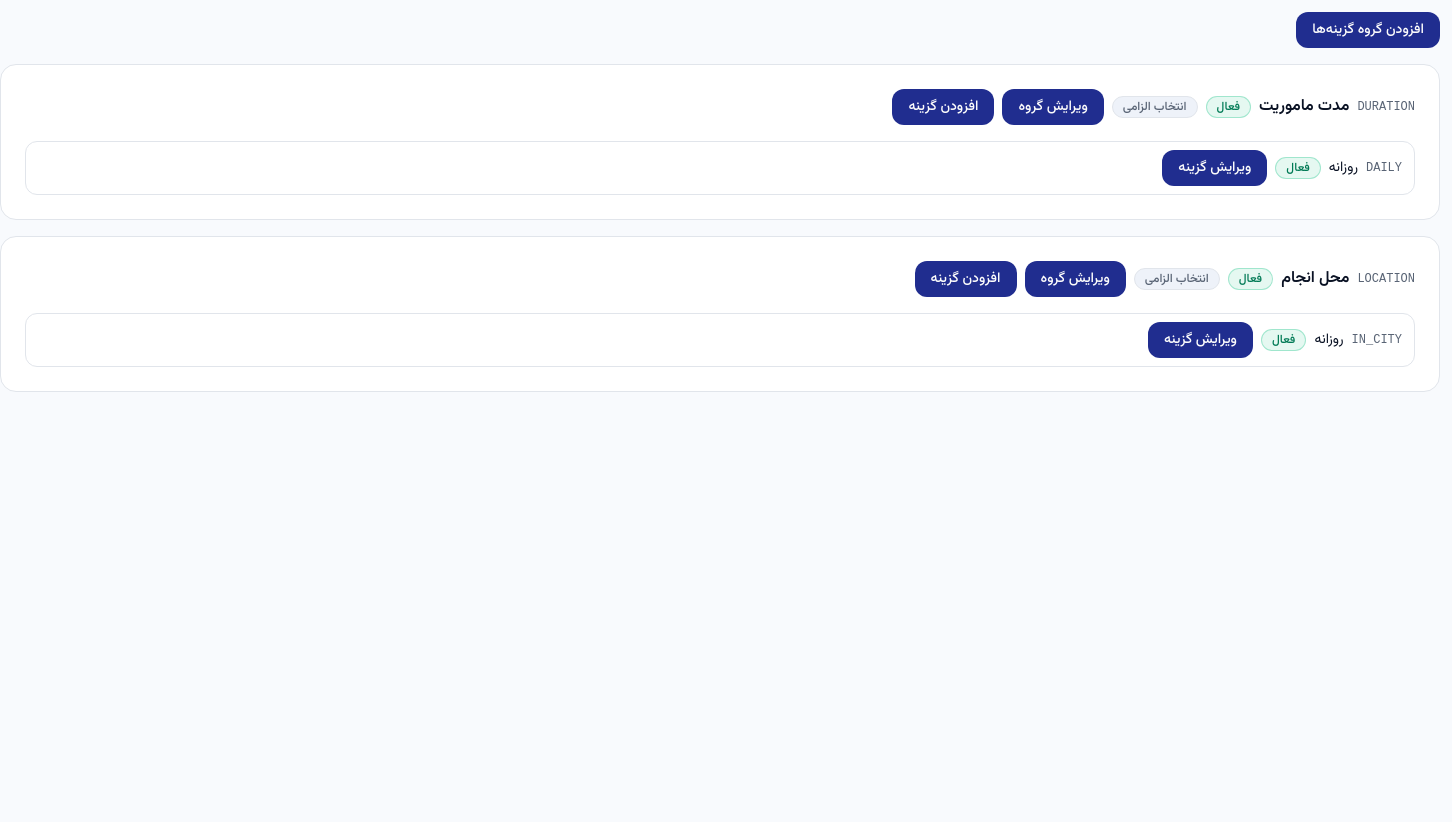
Test: creating an option group › warns about a group code the rule set does not serve, without refusing it
The image size is (1452, 822).
Check: the element with test id "hr-mission-catalogue" is shown, box 0,64 -> 1440,392
Click the button with test id "hr-mission-catalogue-create-group": coordinates (1368, 30) 1296,12 -> 1440,48
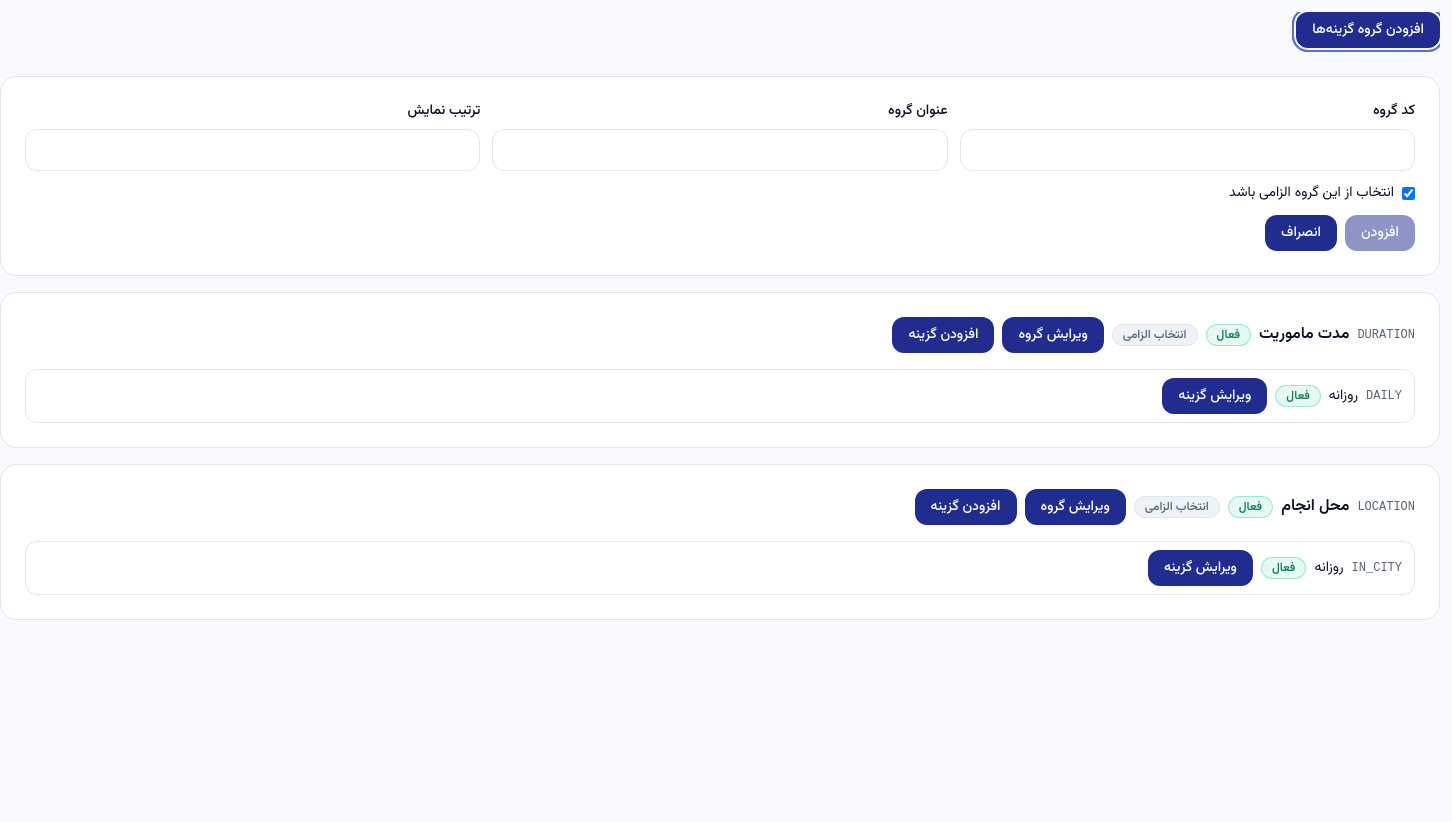
In the field with test id "hr-mission-catalogue-new-group-code": coordinates (1187, 150) 960,129 -> 1415,171, type "UNKNOWN"
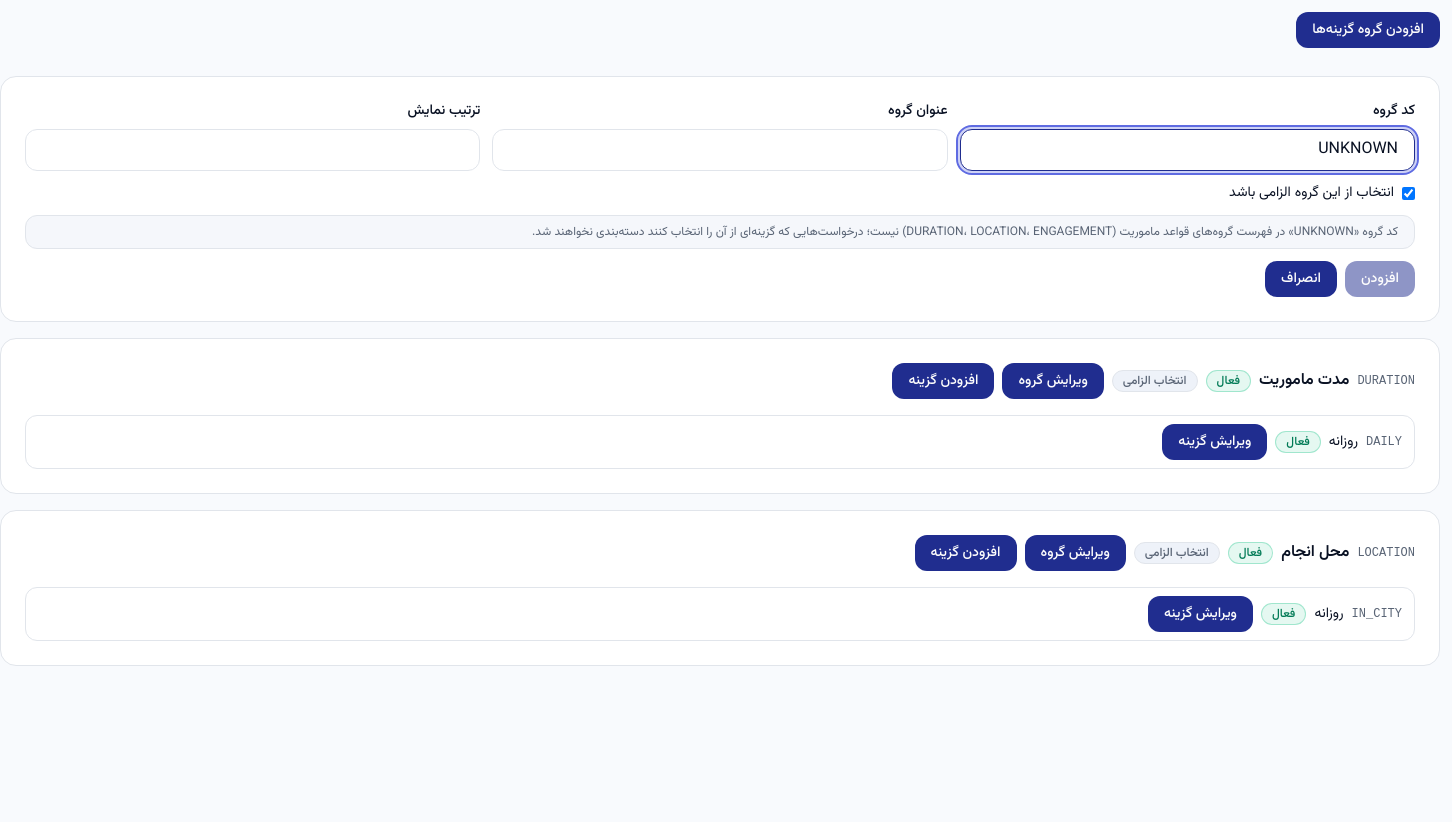
Check: the text with test id "hr-mission-catalogue-group-code-warning" is shown, box 25,215 -> 1415,249
In the field with test id "hr-mission-catalogue-new-group-label": coordinates (720, 150) 492,129 -> 948,171, type "گروه تازه"
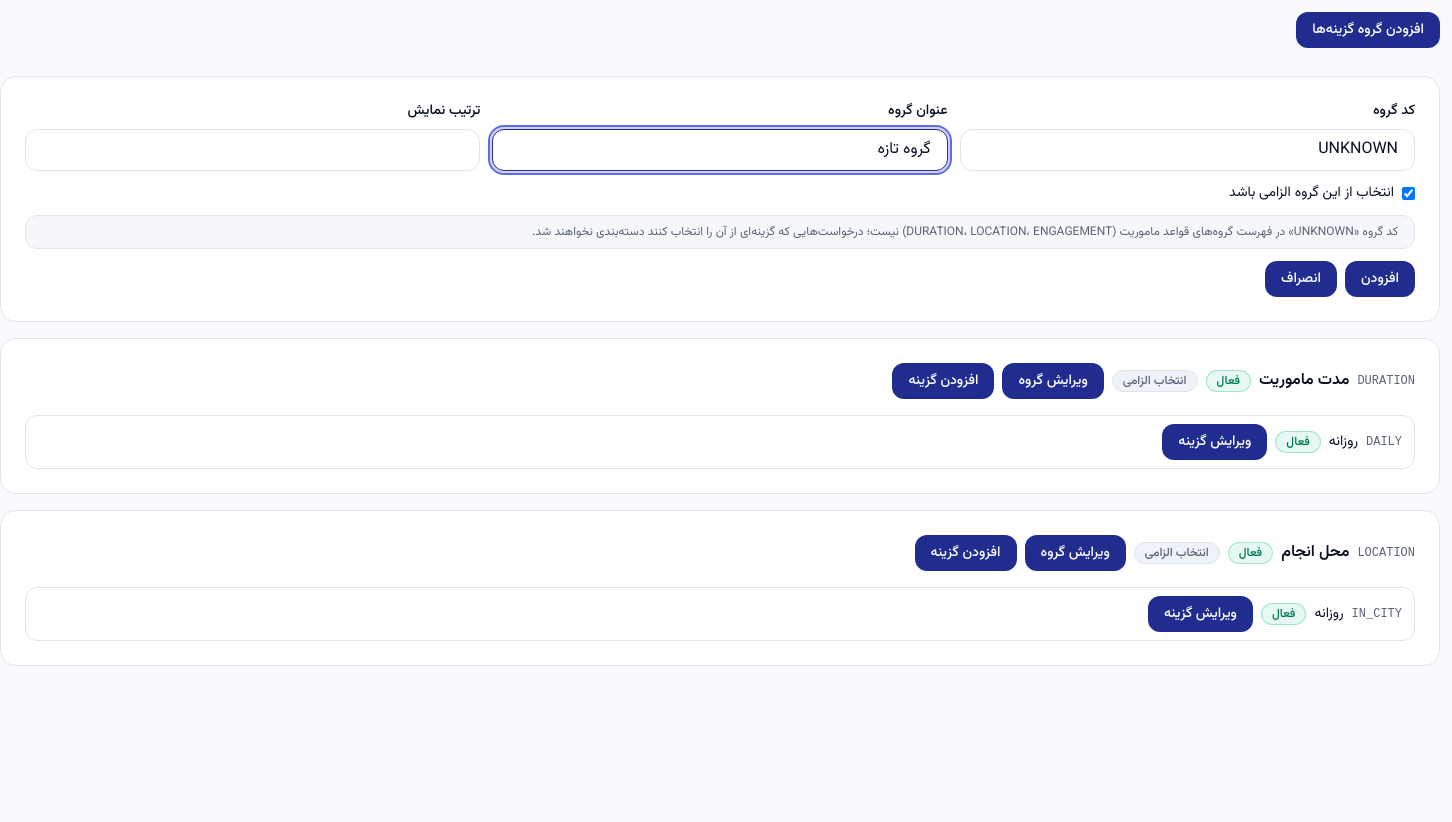
Check: the button with test id "hr-mission-catalogue-new-group-save" is enabled, box 1345,261 -> 1415,297
